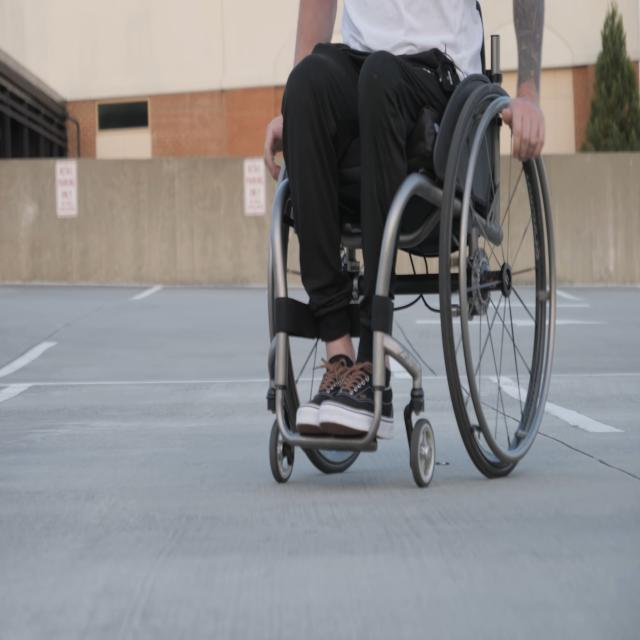wheelchairs: (265, 0, 556, 491)
